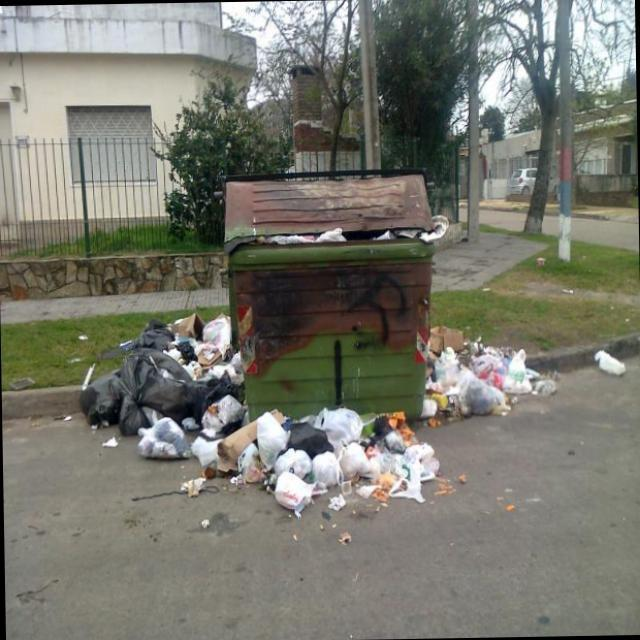garbage: (71, 302, 253, 509), (216, 404, 443, 526), (416, 319, 564, 420), (230, 211, 452, 255), (592, 339, 636, 384)
